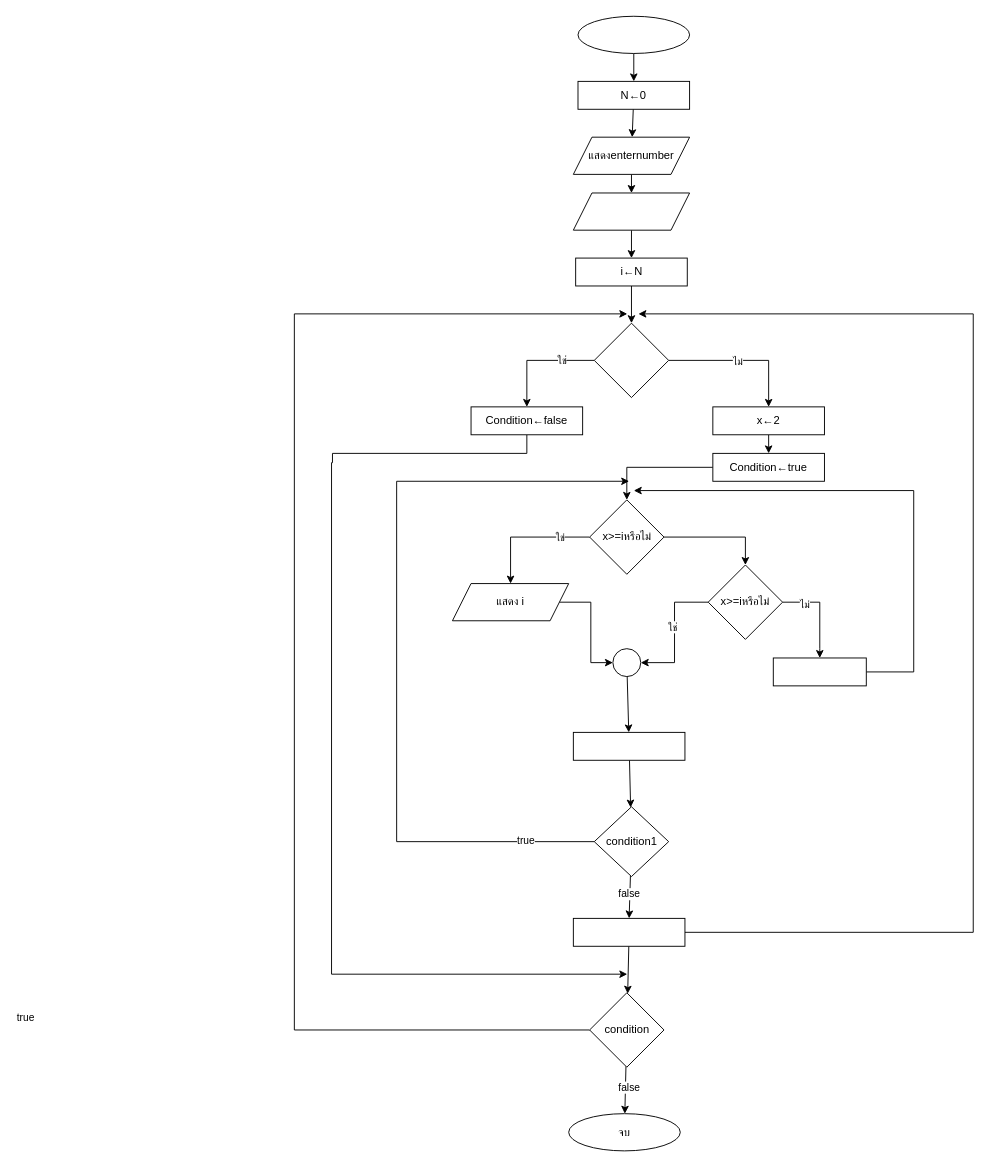
This 997x1167 diagram has some shape labels left out. Here are the shapes that lost their labels. From the top down, the centre of each, then its label:
At (633,34): "เริ่ม".
At (631,211): "นำเข้า N".
At (631,360): "i<2หรือไม่".
At (819,671): "x←x+1".
At (628,745): "Condition1←false".
At (628,931): "i←i-1".
